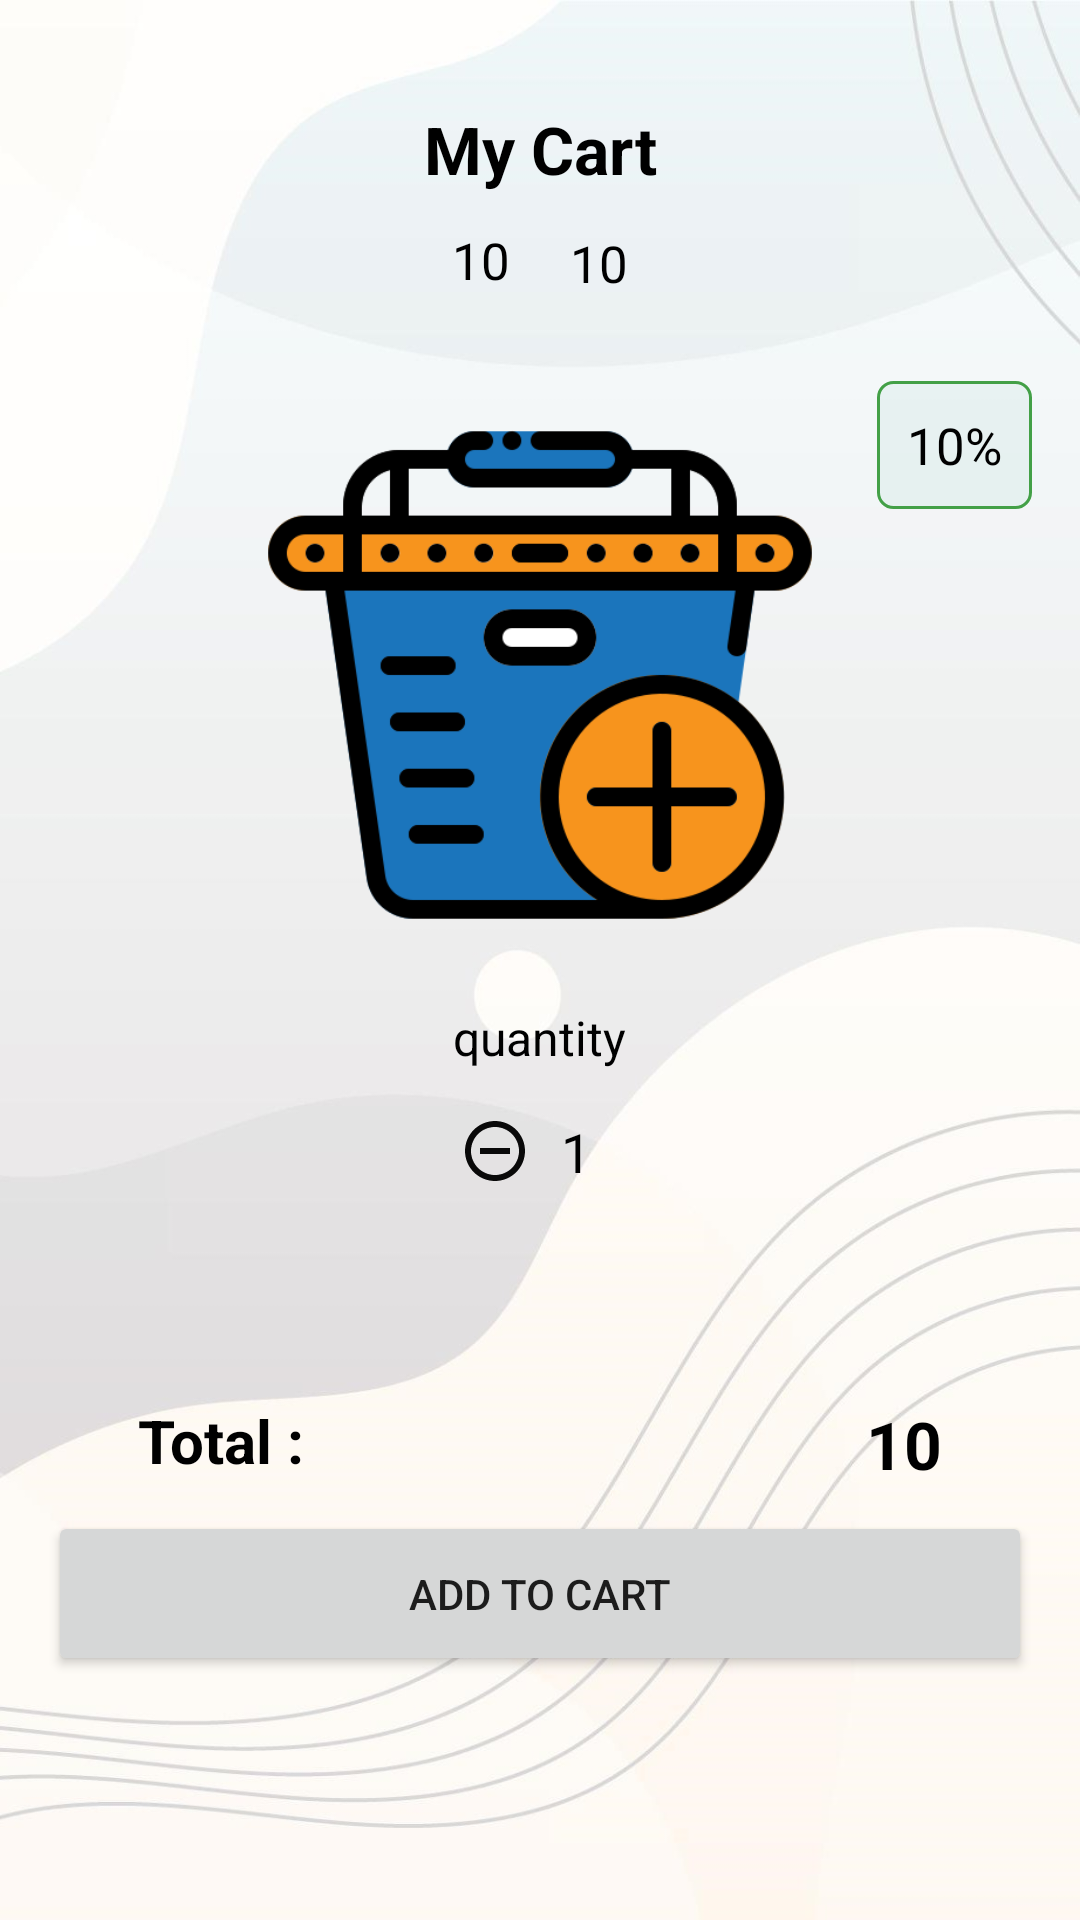

Icon click points for this 1080×1920 phone screenshot, format (x,y):
remove circle: (495,1151)
